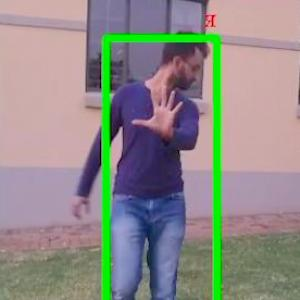follow_hand: (131, 77, 190, 144)
